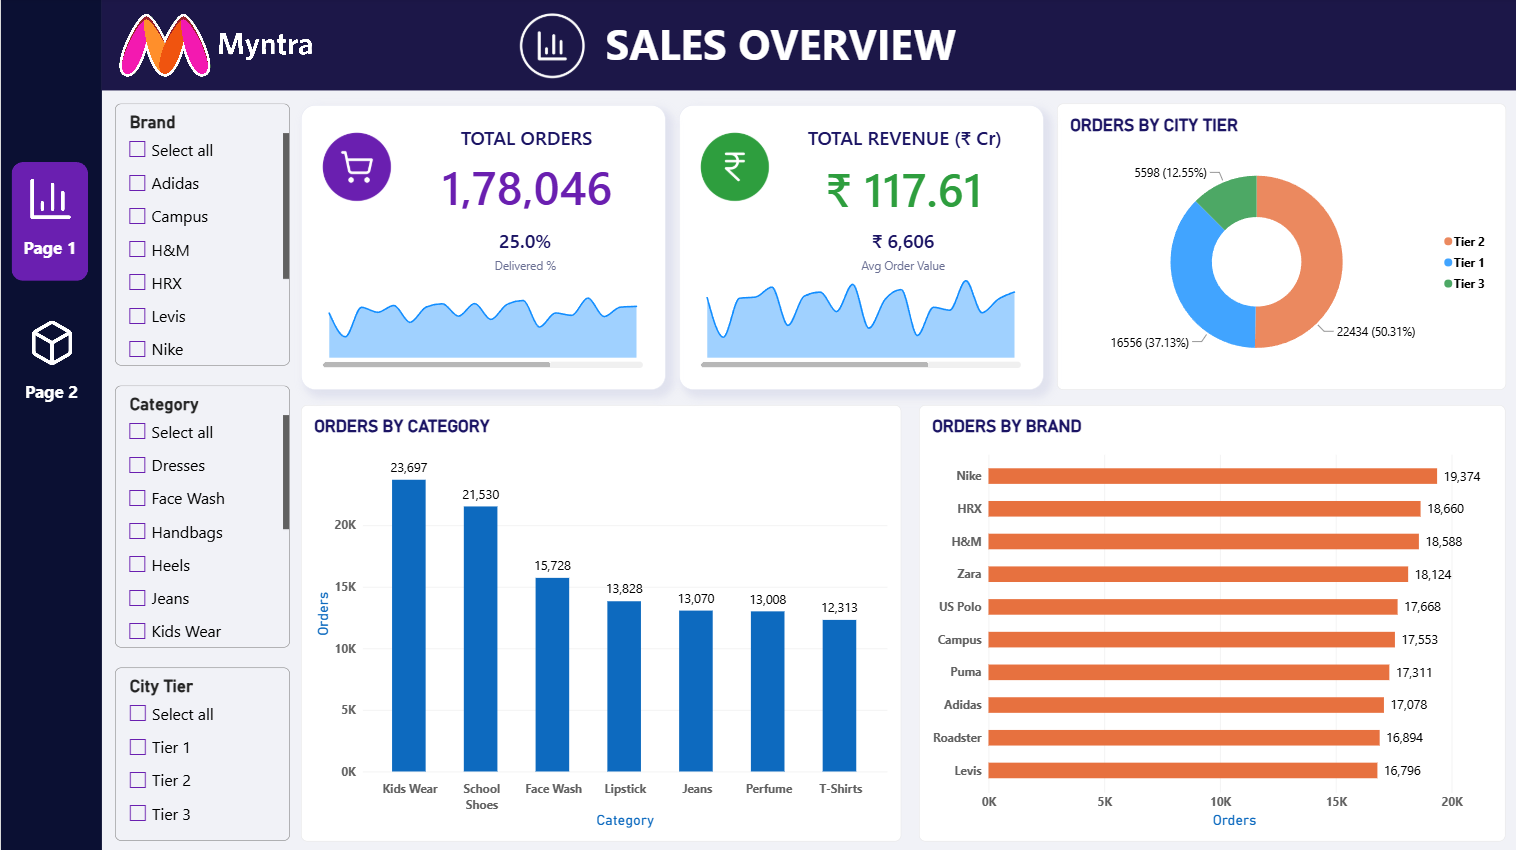

What the dashboard file says about the page in this screenshot:
{"tool":"powerbi","page":{"name":"Sales Overview","canvas":[1920,1080],"ordinal":0},"visuals":[{"type":"shape","box":[0,0,127.6,1080.5],"z":0,"group":"g8"},{"type":"shape","box":[127.6,0,1791.8,117.9],"z":0,"group":"g9"},{"type":"textbox","box":[763.5,23.2,790.6,71.5],"z":0,"group":"g6"},{"type":"donutChart","title":"ORDERS BY CITY TIER","fields":{"Category":["MyntraFestiveOrders.City_Tier"],"Y":["CountNonNull(MyntraFestiveOrders.Order_ID)"]},"box":[1331.8,135.2,566.3,361.5],"z":0},{"type":"slicer","fields":{"Values":["DimProduct.Brand_Name"]},"box":[143,135.3,220.4,330.5],"z":0,"group":"g11"},{"type":"textbox","box":[378,136.3,460,359],"z":0,"group":"g1"},{"type":"group","id":"g1","title":"Group 5","box":[378,136.3,460.7,359.1],"z":0,"group":"g4"},{"type":"group","id":"g2","title":"Group 6","box":[854.9,136.3,460.7,359.1],"z":0,"group":"g3"},{"type":"group","id":"g3","title":"card 1","box":[854.9,136.3,460.7,359.1],"z":0,"group":"g10"},{"type":"textbox","box":[854.9,136.3,460,359],"z":0,"group":"g2"},{"type":"shape","box":[13.5,209.3,96.7,150],"z":0,"group":"g5"},{"type":"shape","box":[15.5,391,96.7,150],"z":0,"group":"g7"},{"type":"image","box":[143.1,9.7,253.2,102.4],"z":1000,"group":"g9"},{"type":"image","box":[653.3,19.3,85,85],"z":1000,"group":"g6"},{"type":"group","id":"g4","title":"card 2","box":[378,136.3,460.7,359.1],"z":1000,"group":"g10"},{"type":"image","box":[404,170.3,88,88],"z":1000,"group":"g1"},{"type":"image","box":[880.9,170.3,88,88],"z":1000,"group":"g2"},{"type":"group","id":"g5","title":"Page-1","box":[13.5,193.3,96.6,166.2],"z":1000,"group":"g8"},{"type":"image","box":[21.2,193.3,83,123],"z":1000,"group":"g5"},{"type":"image","box":[23.2,375,83,123],"z":1000,"group":"g7"},{"type":"slicer","fields":{"Values":["DimProduct.Category"]},"box":[143,491,220.4,330.5],"z":1000,"group":"g11"},{"type":"clusteredColumnChart","title":"ORDERS BY CATEGORY","fields":{"Category":["DimProduct.Category"],"Y":["Measure Table.Total Orders"]},"box":[378.5,514.8,757,550.7],"z":1000},{"type":"group","id":"g6","title":"Title","box":[653.3,19.3,900.7,85],"z":2000,"group":"g9"},{"type":"textbox","box":[506,160.3,312,34],"z":2000,"group":"g1"},{"type":"textbox","box":[982.9,160.3,312,34],"z":2000,"group":"g2"},{"type":"textbox","box":[28.2,300.3,71,32],"z":2000,"group":"g5"},{"type":"group","id":"g7","title":"Page-2","box":[15.5,375,96.6,166.2],"z":2000,"group":"g8"},{"type":"textbox","box":[30.2,482,71,32],"z":2000,"group":"g7"},{"type":"clusteredBarChart","title":"ORDERS BY BRAND","fields":{"Category":["DimProduct.Brand_Name"],"Y":["Measure Table.Total Orders"]},"box":[1158.2,514.8,740,550.7],"z":2000},{"type":"slicer","fields":{"Values":["MyntraFestiveOrders.City_Tier"]},"box":[143,846.6,220.4,218.4],"z":2000,"group":"g11"},{"type":"group","id":"g8","title":"Sidebar","box":[0,0,127.6,1080.5],"z":3000},{"type":"card","fields":{"Values":["Measure Table.Total Orders"]},"box":[507.9,193,309.5,89.8],"z":3000,"group":"g1"},{"type":"card","fields":{"Values":["Measure Table.Revenue Cr"]},"box":[982.5,193,314.2,94.5],"z":3000,"group":"g2"},{"type":"group","id":"g9","title":"Heading","box":[127.6,0,1791.8,117.9],"z":4000},{"type":"card","fields":{"Values":["Measure Table.Delivered %"]},"box":[505.6,269.4,311.9,101.6],"z":4000,"group":"g1"},{"type":"card","fields":{"Values":["Measure Table.Avg Order Value"]},"box":[982.1,269.4,311.9,101.6],"z":4000,"group":"g2"},{"type":"group","id":"g10","title":"KPIs","box":[378,136.3,937.6,359.1],"z":5000},{"type":"areaChart","fields":{"Category":["DimDate.YearMonth"],"Y":["Measure Table.Total Orders"]},"box":[390,332.3,436,151],"z":5000,"group":"g1"},{"type":"areaChart","fields":{"Category":["DimDate.YearMonth"],"Y":["Measure Table.Revenue Cr"]},"box":[866.9,332.3,436,151],"z":5000,"group":"g2"},{"type":"group","id":"g11","title":"slicers","box":[143,135.3,220.4,929.7],"z":6000}]}

Visuals, with their boxes on the page's 1920x1080 design canvas (x1, y1, x2, y2). These are canvas units, not pixel positions in the 1516x850 screenshot, which may show the page scaled, cropped or inside an application window:
shape: [0, 0, 128, 1080]
shape: [128, 0, 1919, 118]
textbox: [764, 23, 1554, 95]
"ORDERS BY CITY TIER" donutChart: [1332, 135, 1898, 497]
slicer - DimProduct.Brand_Name: [143, 135, 363, 466]
textbox: [378, 136, 838, 495]
"Group 5" group: [378, 136, 839, 495]
"Group 6" group: [855, 136, 1316, 495]
"card 1" group: [855, 136, 1316, 495]
textbox: [855, 136, 1315, 495]
shape: [14, 209, 110, 359]
shape: [16, 391, 112, 541]
image: [143, 10, 396, 112]
image: [653, 19, 738, 104]
"card 2" group: [378, 136, 839, 495]
image: [404, 170, 492, 258]
image: [881, 170, 969, 258]
"Page-1" group: [14, 193, 110, 360]
image: [21, 193, 104, 316]
image: [23, 375, 106, 498]
slicer - DimProduct.Category: [143, 491, 363, 822]
"ORDERS BY CATEGORY" clusteredColumnChart: [378, 515, 1136, 1066]
"Title" group: [653, 19, 1554, 104]
textbox: [506, 160, 818, 194]
textbox: [983, 160, 1295, 194]
textbox: [28, 300, 99, 332]
"Page-2" group: [16, 375, 112, 541]
textbox: [30, 482, 101, 514]
"ORDERS BY BRAND" clusteredBarChart: [1158, 515, 1898, 1066]
slicer - MyntraFestiveOrders.City_Tier: [143, 847, 363, 1065]
"Sidebar" group: [0, 0, 128, 1080]
card - Measure Table.Total Orders: [508, 193, 817, 283]
card - Measure Table.Revenue Cr: [982, 193, 1297, 288]
"Heading" group: [128, 0, 1919, 118]
card - Measure Table.Delivered %: [506, 269, 818, 371]
card - Measure Table.Avg Order Value: [982, 269, 1294, 371]
"KPIs" group: [378, 136, 1316, 495]
areaChart - DimDate.YearMonth x Measure Table.Total Orders: [390, 332, 826, 483]
areaChart - DimDate.YearMonth x Measure Table.Revenue Cr: [867, 332, 1303, 483]
"slicers" group: [143, 135, 363, 1065]
